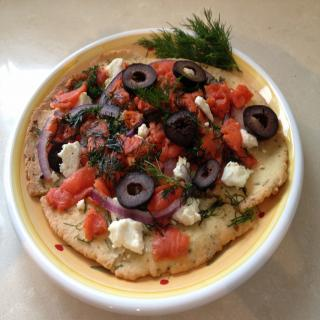Pizza: (17, 19, 284, 284)
